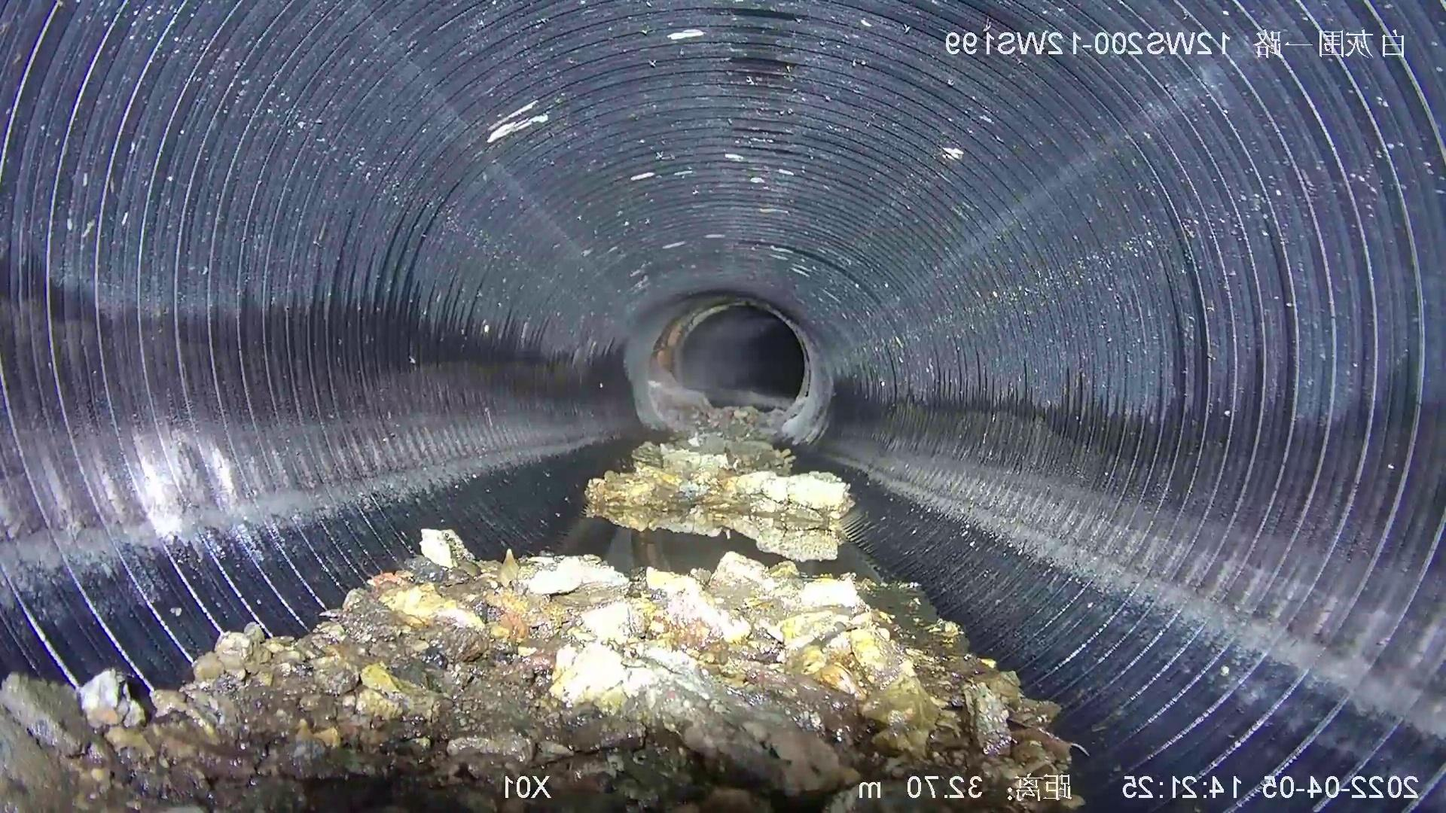CJ: (1, 407, 1079, 812)
